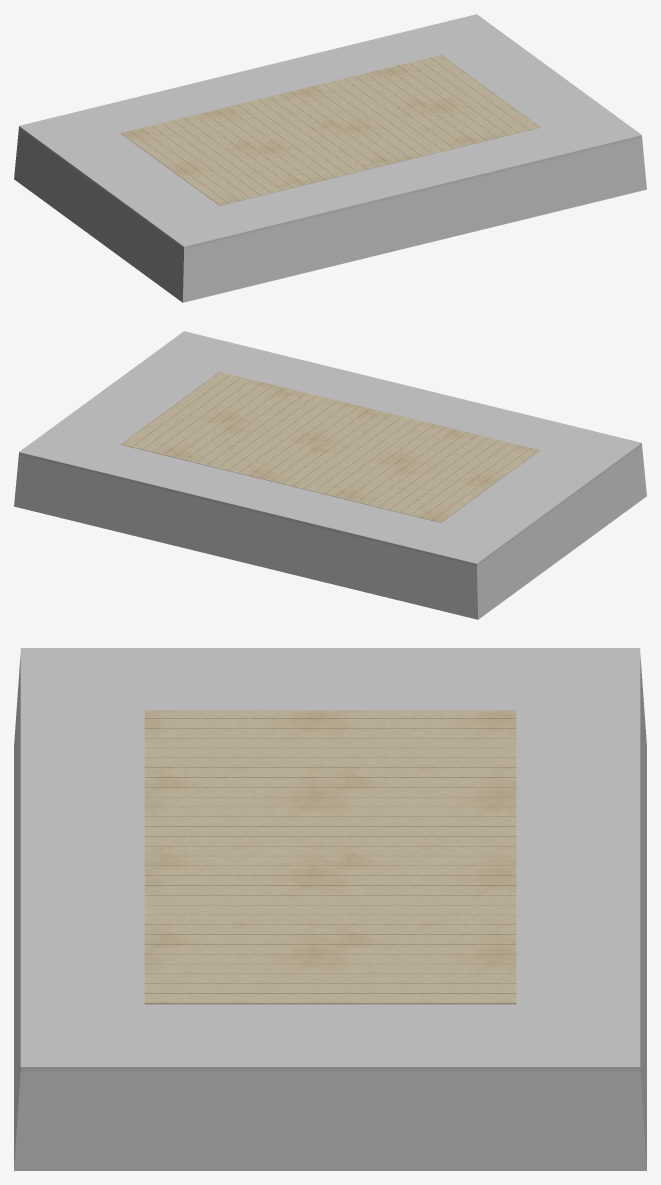
The model's file is SM_Art_Authored_FinalChartTable_1600x1000x180_3_3.gltf.
3 renders of one model, top to bottom at view 1: azimuth 30°, elevation 25°; view 2: azimuth 150°, elevation 25°; view 3: azimuth 270°, elevation 25°, orthographic. The views are drawn at different scales.
Visible parts, largest first — view 1: SM_Art_Authored_FinalChartTable_1600x1000x180_3_3; view 2: SM_Art_Authored_FinalChartTable_1600x1000x180_3_3; view 3: SM_Art_Authored_FinalChartTable_1600x1000x180_3_3.
Boxes of the visible parts, <box> form: SM_Art_Authored_FinalChartTable_1600x1000x180_3_3: <box>14,14,646,302</box>; SM_Art_Authored_FinalChartTable_1600x1000x180_3_3: <box>14,331,646,619</box>; SM_Art_Authored_FinalChartTable_1600x1000x180_3_3: <box>14,648,646,1170</box>.
Size of the model in its own units: 16.22 by 1.81 by 10.22.
